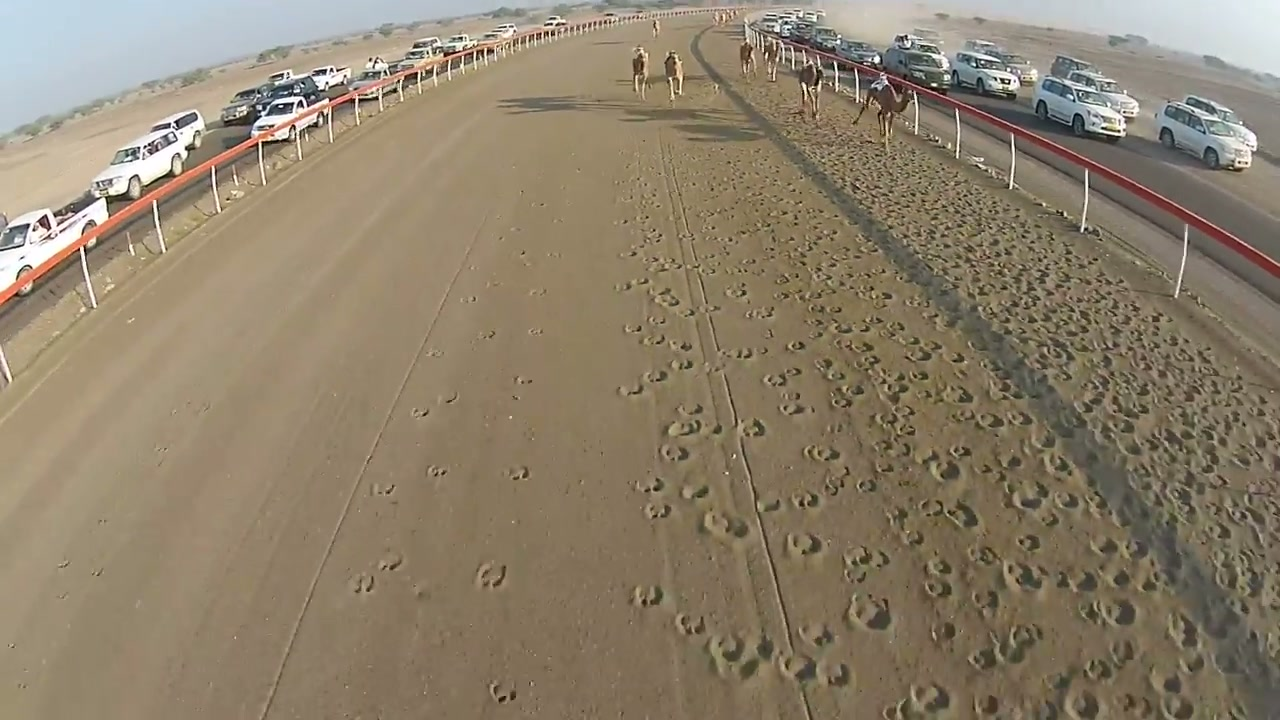animal_foot_print: (805, 236, 1146, 642), (968, 624, 1042, 670), (706, 634, 776, 679), (883, 683, 952, 719), (846, 593, 892, 631), (843, 546, 889, 583), (700, 509, 749, 543), (1079, 598, 1138, 626), (707, 633, 746, 673), (1165, 611, 1203, 649), (1002, 561, 1048, 592), (1063, 686, 1106, 719), (1005, 482, 1050, 512), (923, 557, 953, 599), (776, 653, 816, 683), (785, 532, 825, 561), (941, 501, 980, 530), (1055, 568, 1100, 593), (1115, 693, 1156, 719), (815, 660, 852, 687), (799, 623, 835, 649), (829, 383, 865, 409), (1160, 693, 1196, 719), (971, 590, 1002, 619), (822, 466, 850, 497), (475, 562, 506, 589), (674, 613, 707, 637), (929, 458, 962, 482), (1082, 659, 1116, 682), (665, 417, 704, 437), (966, 544, 1001, 566), (631, 585, 664, 608), (1051, 490, 1085, 512), (930, 621, 958, 647), (973, 694, 1003, 717), (803, 444, 841, 462), (658, 442, 690, 463), (1089, 535, 1119, 557), (489, 681, 516, 704), (634, 476, 666, 495), (791, 490, 821, 510), (925, 555, 953, 576), (721, 347, 766, 360), (651, 289, 681, 308), (917, 498, 946, 517), (680, 483, 709, 502), (898, 526, 925, 546), (349, 573, 374, 594), (738, 418, 765, 437), (615, 277, 649, 292), (377, 552, 403, 571), (778, 402, 813, 416), (645, 501, 671, 519), (1016, 534, 1042, 552), (724, 283, 749, 301), (745, 306, 775, 320), (676, 402, 704, 417), (640, 332, 668, 347), (410, 580, 431, 600), (873, 457, 897, 474), (618, 382, 645, 397), (642, 370, 669, 384), (506, 465, 529, 481), (855, 477, 878, 493), (370, 482, 396, 496), (668, 338, 693, 352), (763, 373, 787, 387), (424, 464, 448, 478), (669, 358, 694, 371), (700, 361, 725, 374), (437, 391, 459, 404), (697, 304, 720, 315), (674, 307, 697, 318), (786, 340, 807, 352), (624, 323, 645, 334), (410, 407, 430, 418), (646, 315, 666, 326), (513, 375, 532, 385), (424, 348, 443, 357), (528, 288, 546, 296), (460, 295, 477, 303), (90, 567, 103, 576)
